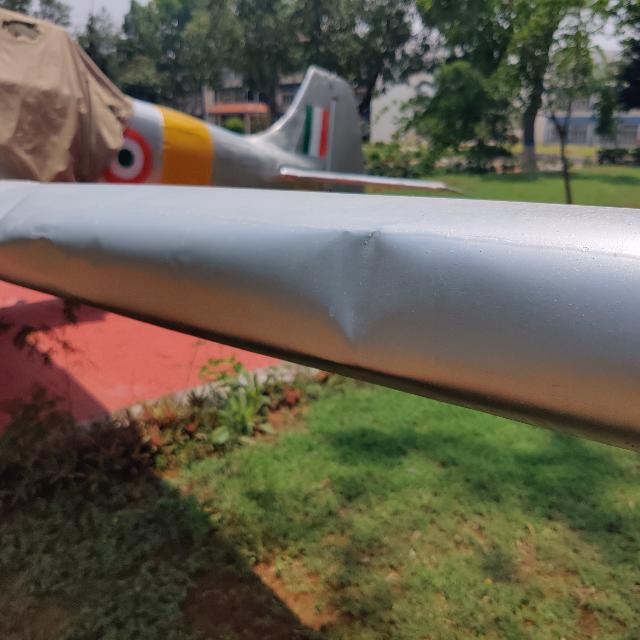dent: (298, 216, 420, 356)
